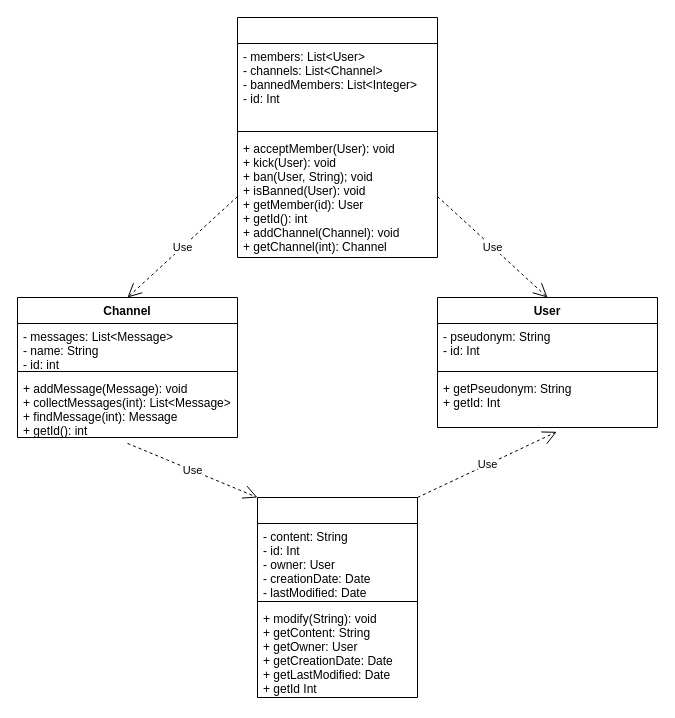
The diagram is 675 pixels wide and 718 high, and some of its shapes have lost their labels. Here are the shapes that lost their labels. From the top down, the box of each, then its label:
(236, 16, 438, 258): ChatServer
(256, 496, 418, 698): Message
